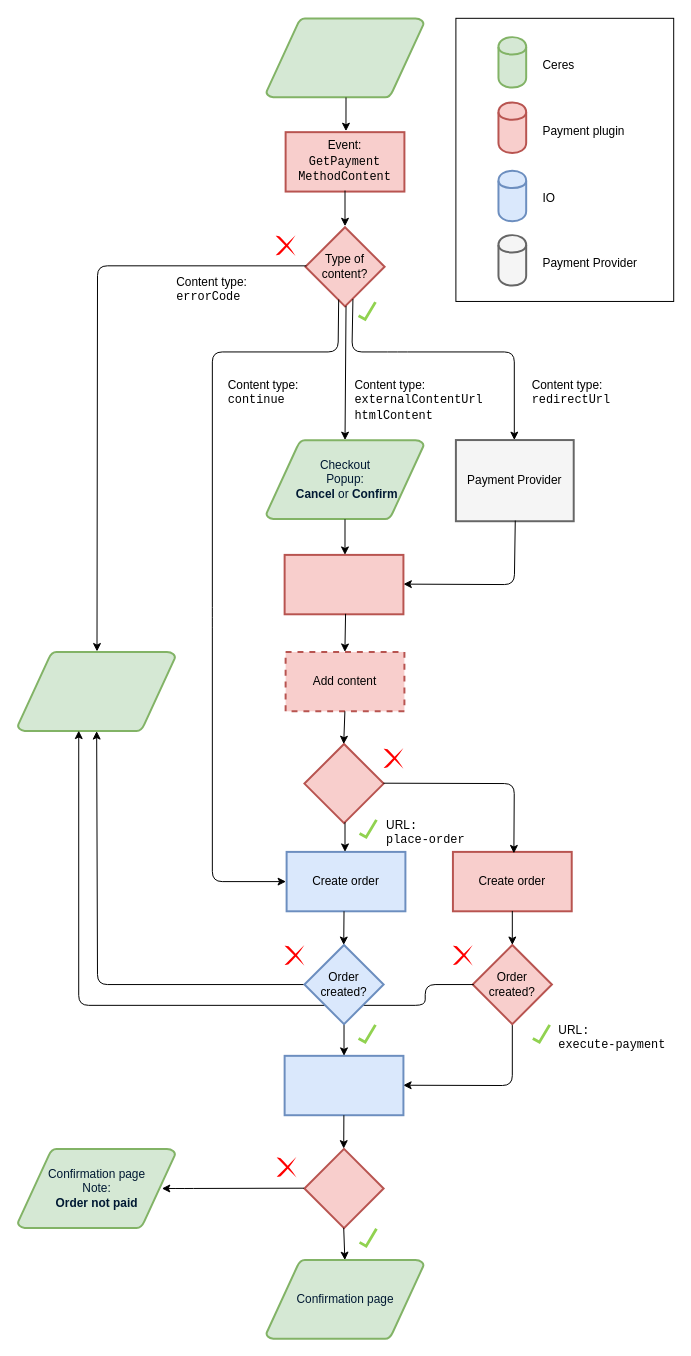
The diagram is 691 pixels wide and 1356 high, and some of its shapes have lost their labels. The shapes that lost their labels are listed below. From the top down, each one's centre as x and y in pixels, then its label:
At (x=344, y=57): "Checkout Button: Order now".
At (x=343, y=584): "Continue with payment data".
At (x=96, y=691): "Checkout Error message".
At (x=343, y=783): "Create order by IO ?".
At (x=343, y=1085): "Event: executePayment".
At (x=343, y=1188): "Payment executed?".
